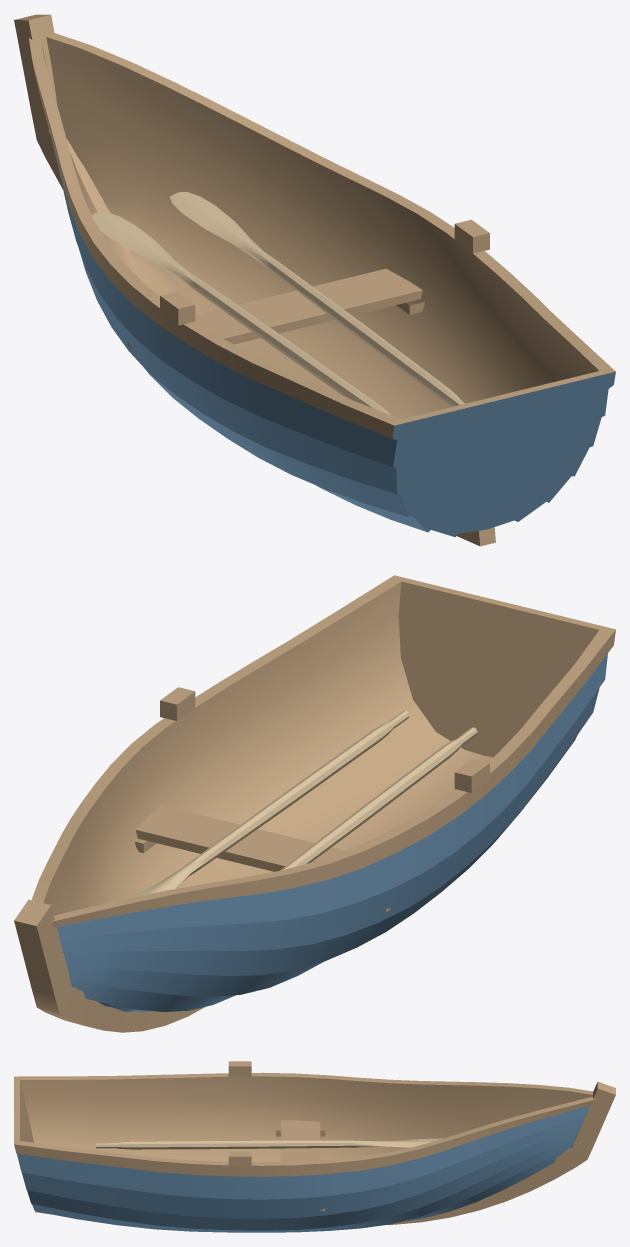
File: SM_Rowboat.glb
3 renders of one model, top to bottom at view 1: azimuth 30°, elevation 25°; view 2: azimuth 150°, elevation 25°; view 3: azimuth 270°, elevation 25°, orthographic. The views are drawn at different scales.
Visible parts, largest first — view 1: SM_Rowboat; view 2: SM_Rowboat; view 3: SM_Rowboat.
Part boxes in pixels (x1=…): SM_Rowboat: x1=14, y1=14, x2=615, y2=546; SM_Rowboat: x1=14, y1=575, x2=615, y2=1032; SM_Rowboat: x1=14, y1=1061, x2=615, y2=1232.
Bounding box in the file's own units: 1.38 × 0.9313 × 3.67.
